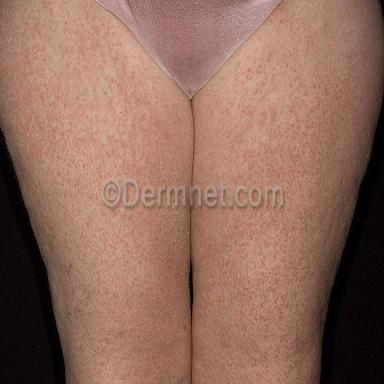Darier_s-Disease: (193, 0, 384, 384), (1, 0, 192, 383)
